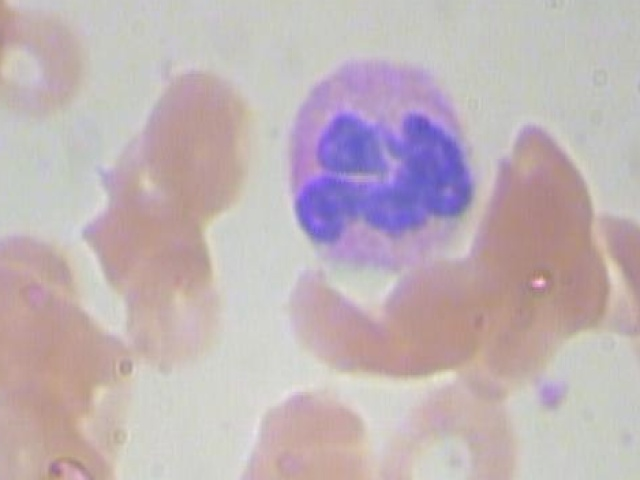Platelets: (529, 366, 575, 426)
RBC: (90, 199, 252, 383), (487, 100, 617, 289), (135, 39, 265, 227), (375, 360, 542, 480), (0, 211, 95, 396), (233, 375, 394, 480), (0, 2, 96, 122), (0, 369, 93, 480), (0, 423, 125, 480)
WBC: (256, 43, 501, 294)
